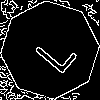L: (25, 25, 79, 77)
